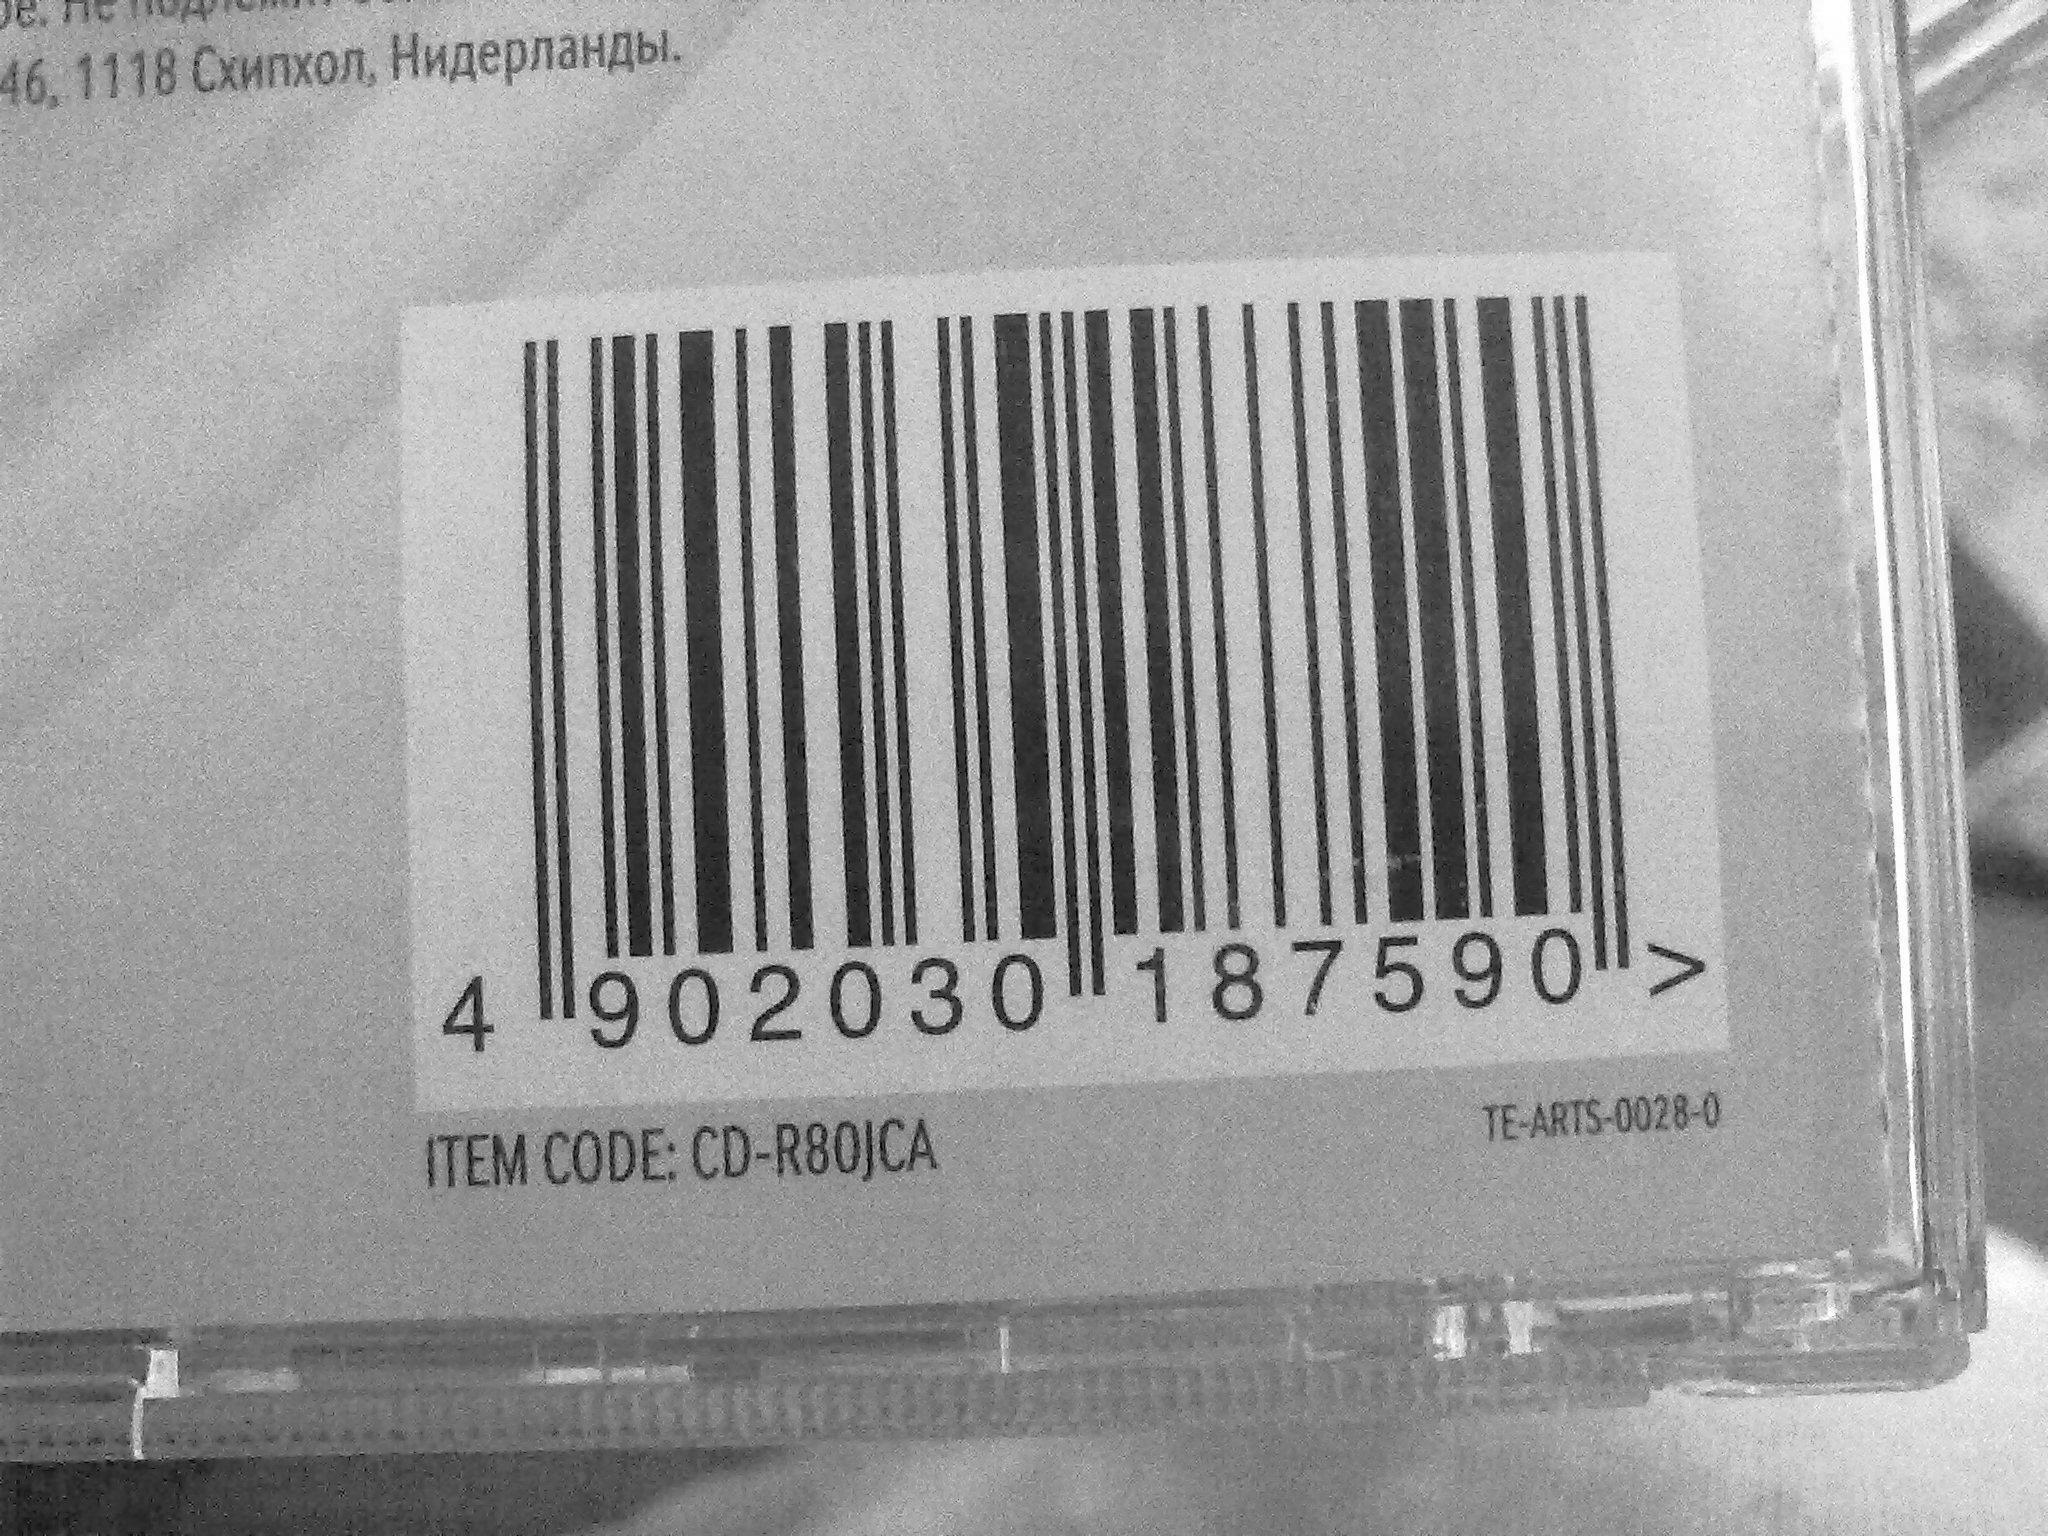Barcode: (400, 303, 1705, 1071)
